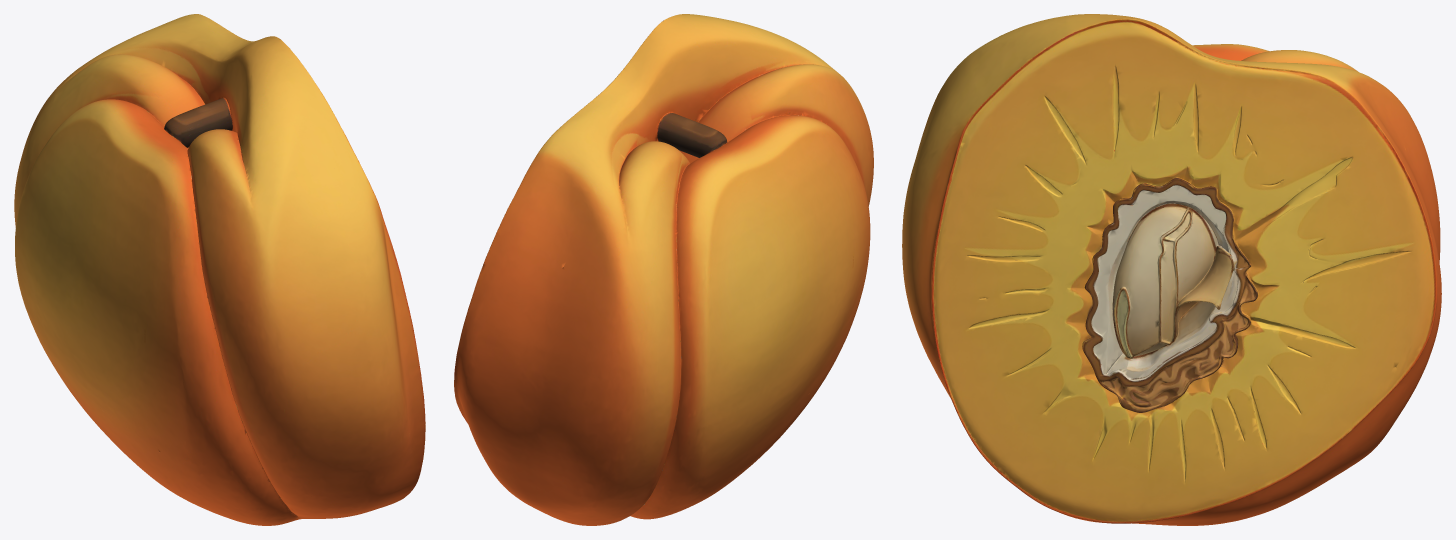
Rendered from peach.glb.
The picture shows the model from 3 angles, left to right: view 1: azimuth 30°, elevation 25°; view 2: azimuth 150°, elevation 25°; view 3: azimuth 270°, elevation 25°; orthographic projection. The views are drawn at different scales.
Parts seen in each view (by area): view 1: tripo_node_3caeb8bf-3c29-4f60-827e-f98502f2bf19; view 2: tripo_node_3caeb8bf-3c29-4f60-827e-f98502f2bf19; view 3: tripo_node_3caeb8bf-3c29-4f60-827e-f98502f2bf19.
Part boxes in pixels (x1,y1,x2,y2): tripo_node_3caeb8bf-3c29-4f60-827e-f98502f2bf19: (14, 14, 425, 525); tripo_node_3caeb8bf-3c29-4f60-827e-f98502f2bf19: (454, 14, 873, 525); tripo_node_3caeb8bf-3c29-4f60-827e-f98502f2bf19: (902, 14, 1441, 525).
Size of the model in its own units: 0.5703 by 1 by 0.9983.
1 material, 1 textured.
